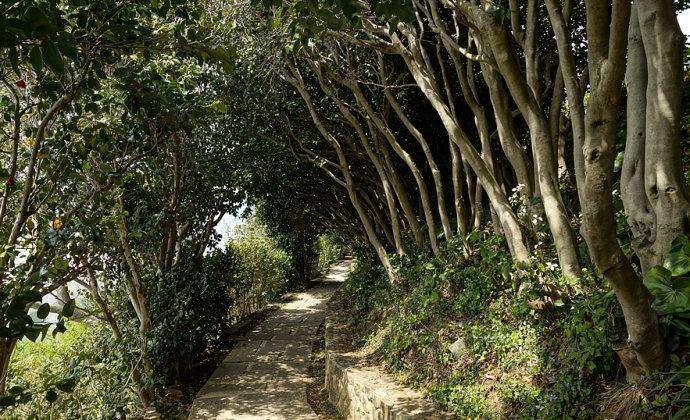Fall-Detected: (6, 0, 690, 420)
